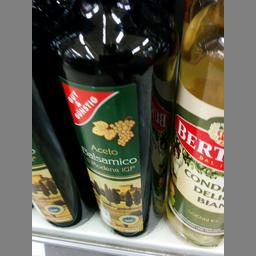vinegar: (54, 28, 156, 236), (166, 2, 226, 244)
